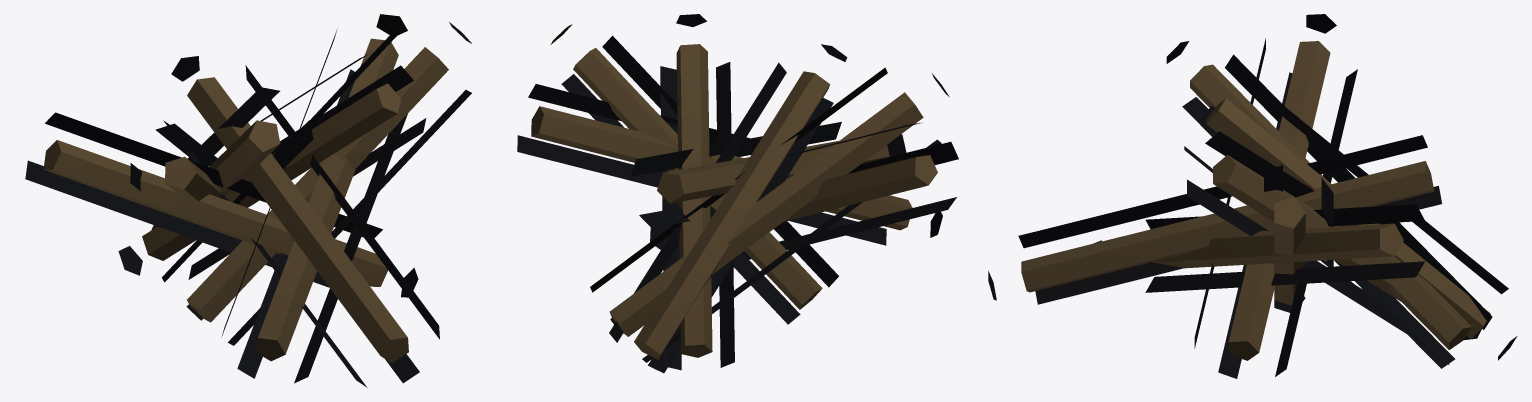
Rendered from prop_brush.glb.
The picture shows the model from 3 angles, left to right: view 1: azimuth 30°, elevation 25°; view 2: azimuth 150°, elevation 25°; view 3: azimuth 270°, elevation 25°; orthographic projection. The views are drawn at different scales.
Visible parts, largest first — view 1: prop; view 2: prop; view 3: prop.
Part boxes in pixels (bbox=[...]): prop: bbox=[25, 14, 471, 387]; prop: bbox=[517, 14, 958, 373]; prop: bbox=[988, 14, 1517, 378].
Size of the model in its own units: 1.3 by 0.7698 by 1.38.
